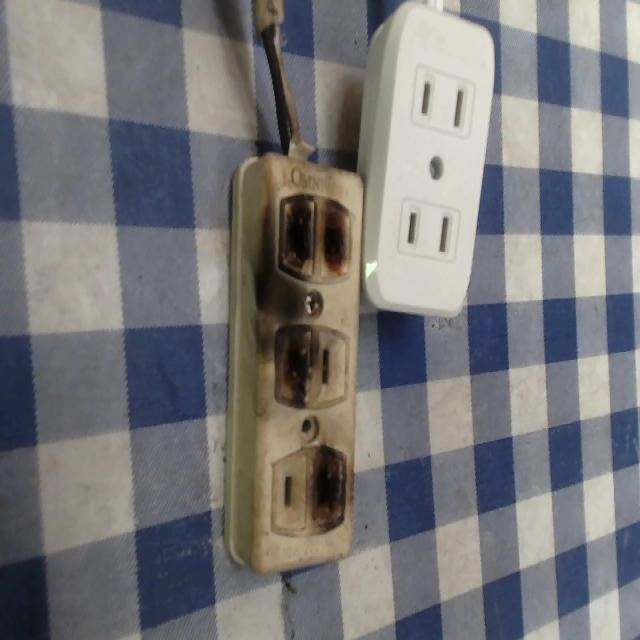-: (275, 191, 361, 297), (269, 316, 316, 408), (303, 442, 352, 530)
